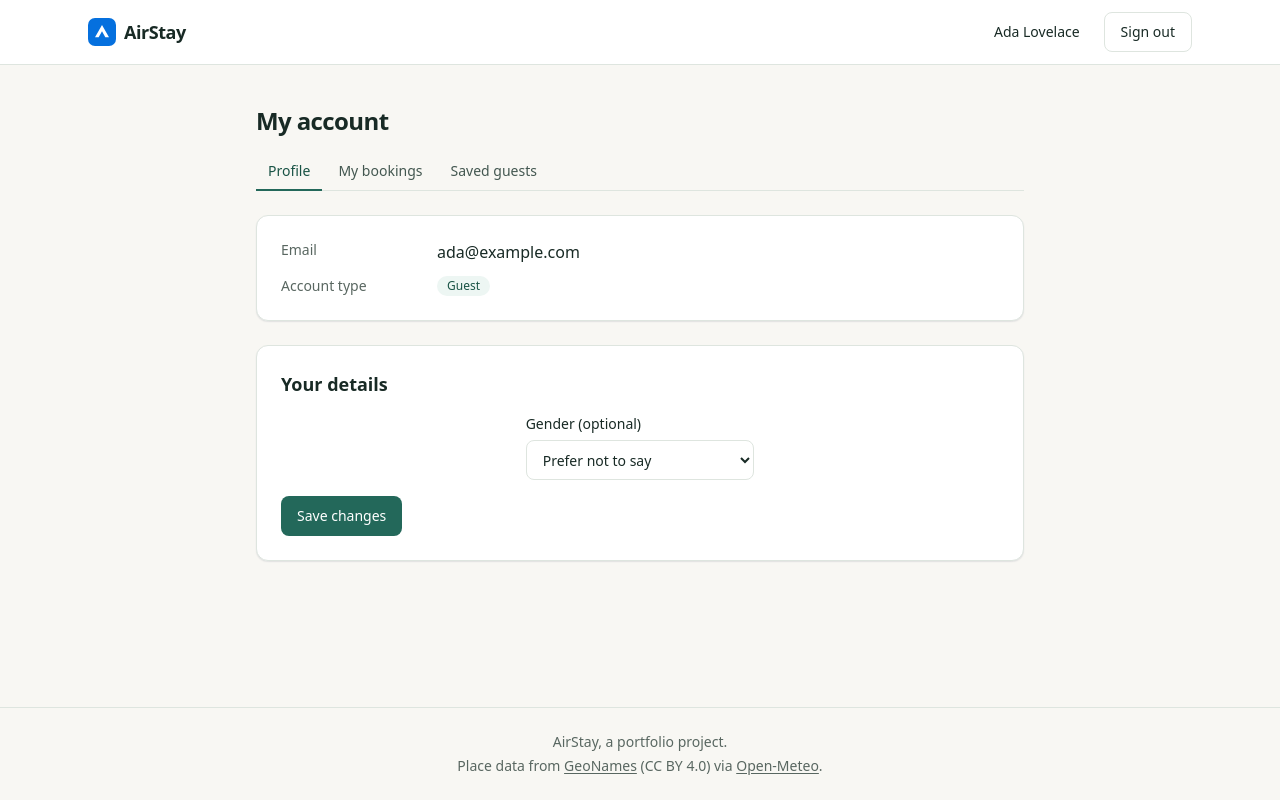
Test: the account area › opens each section from the tabs
The width and height of the screenshot is (1280, 800).
expect the heading "Your details" is shown: met, box [281,372,388,396]
Click the link "My bookings": (380, 170) [338,161,422,180]
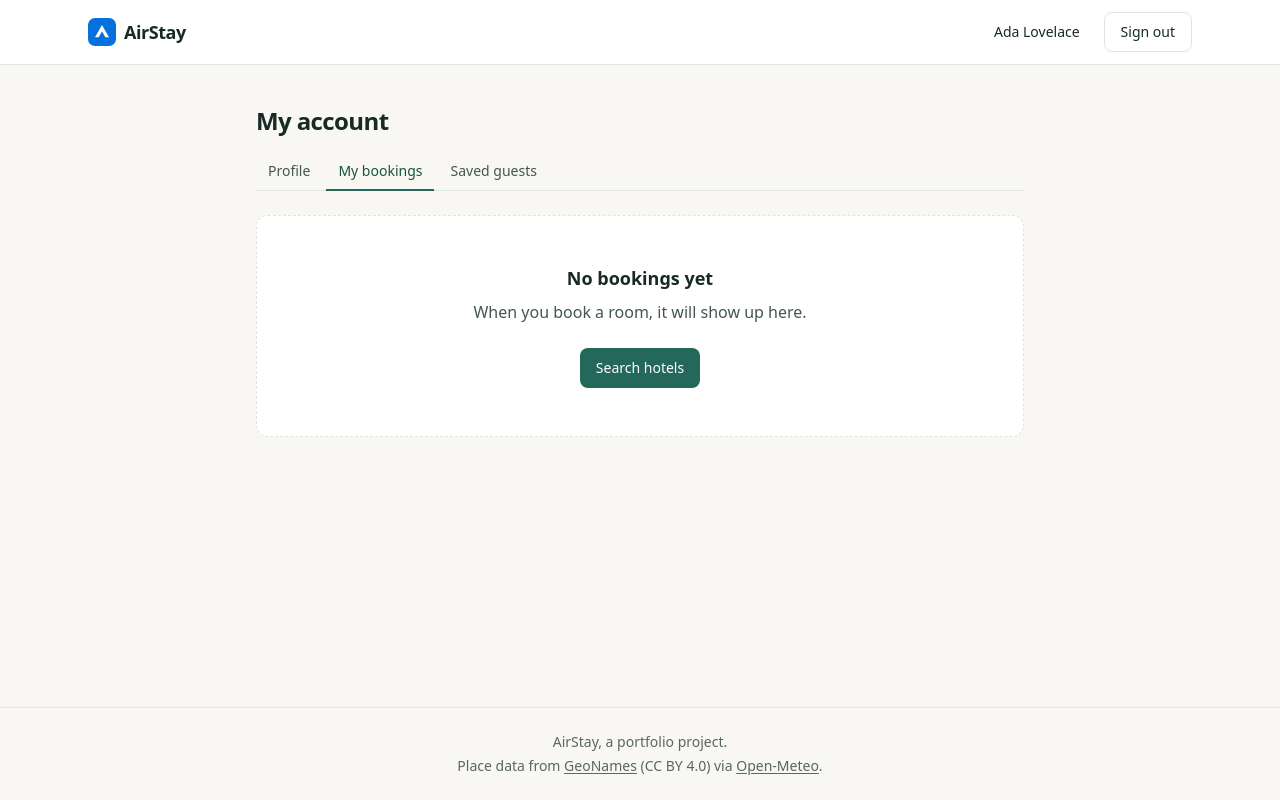
expect the heading "No bookings yet" is shown: met, box [567,266,713,290]
Click the link "Saved guests": (494, 170) [450,161,537,180]
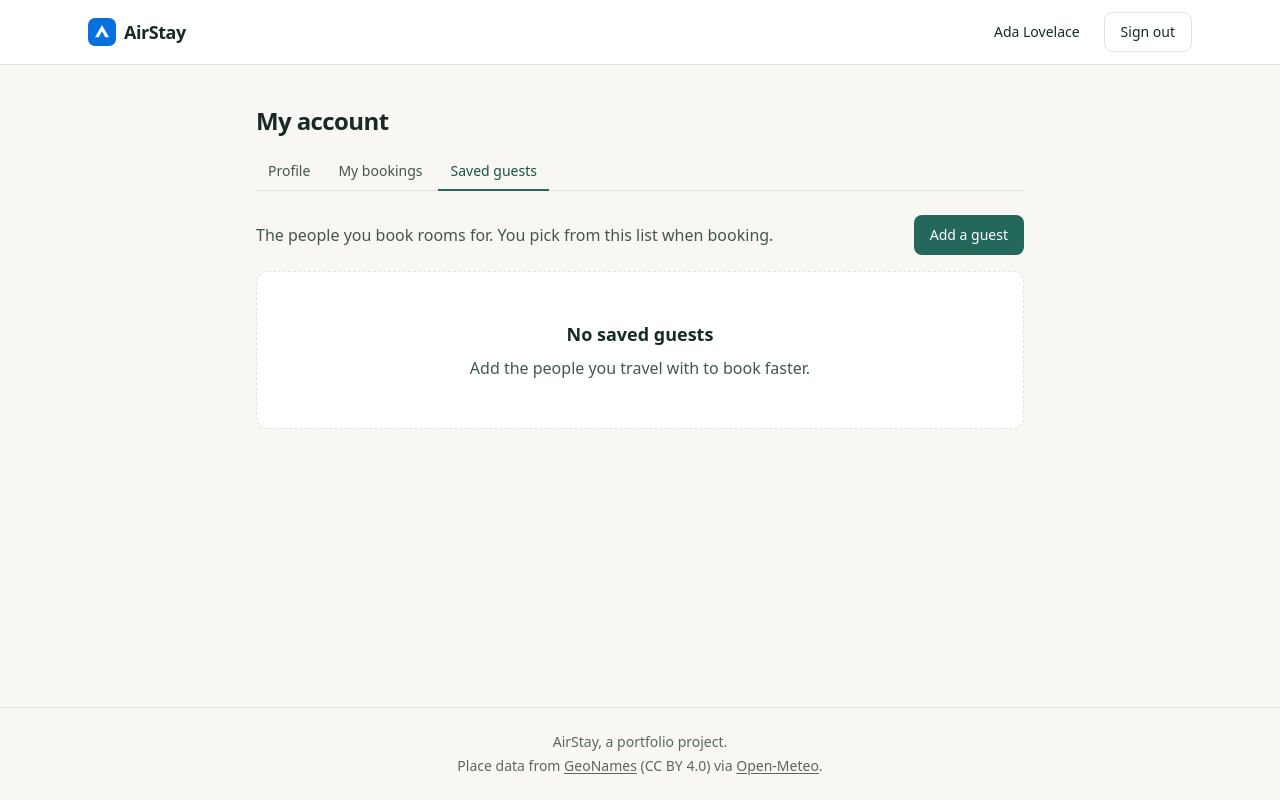
expect the heading "No saved guests" is shown: met, box [567,322,713,346]
